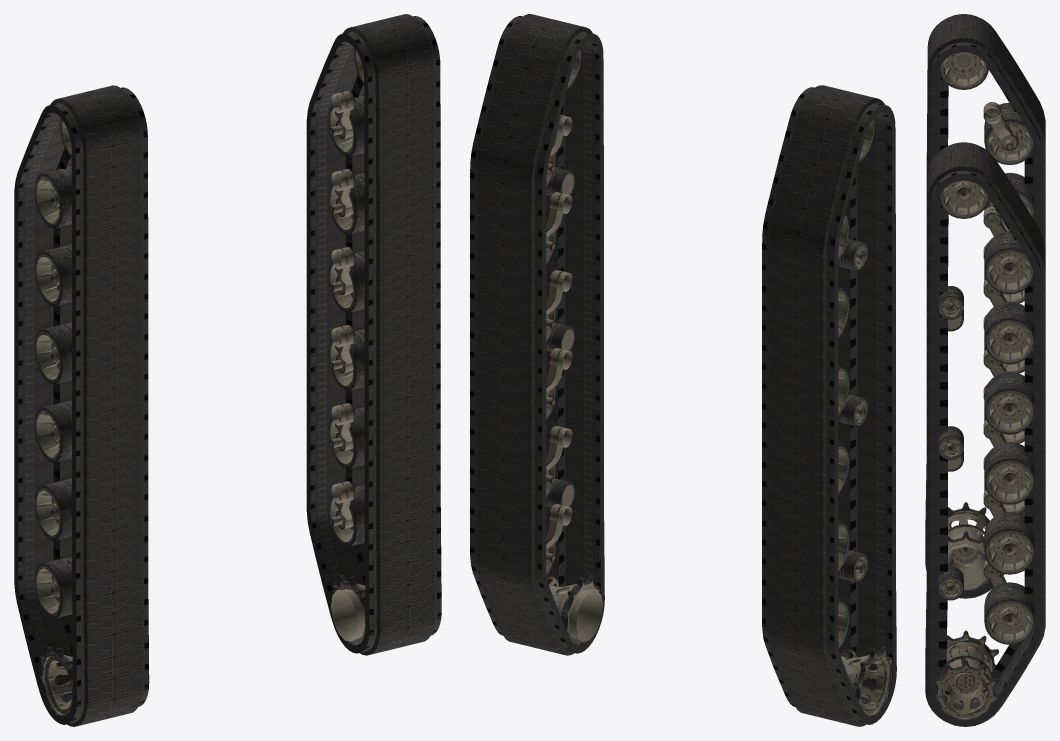
The model's file is Chassis.glb.
3 renders of one model, left to right at view 1: azimuth 30°, elevation 25°; view 2: azimuth 150°, elevation 25°; view 3: azimuth 270°, elevation 25°, orthographic. The views are drawn at different scales.
Parts seen in each view (by area): view 1: set_0_group_0, set_1_group_0, set_3_group_0, set_2_group_0; view 2: set_0_group_0, set_1_group_0, set_3_group_0, set_2_group_0; view 3: set_3_group_0, set_1_group_0, set_0_group_0, set_2_group_0.
Part boxes in pixels (x1=…): set_0_group_0: x1=14, y1=85, x2=149, y2=726; set_1_group_0: x1=306, y1=14, x2=441, y2=655; set_3_group_0: x1=328, y1=48, x2=440, y2=653; set_2_group_0: x1=34, y1=118, x2=148, y2=724; set_0_group_0: x1=762, y1=85, x2=896, y2=726; set_1_group_0: x1=470, y1=14, x2=604, y2=655; set_3_group_0: x1=498, y1=48, x2=602, y2=653; set_2_group_0: x1=790, y1=118, x2=891, y2=724; set_3_group_0: x1=936, y1=180, x2=1034, y2=725; set_1_group_0: x1=925, y1=142, x2=1045, y2=726; set_0_group_0: x1=925, y1=14, x2=1045, y2=598; set_2_group_0: x1=939, y1=52, x2=1034, y2=597.
Bounding box in the file's own units: 3.59 × 5.85 × 1.14.
Materials: 4 (4 with a texture image).
